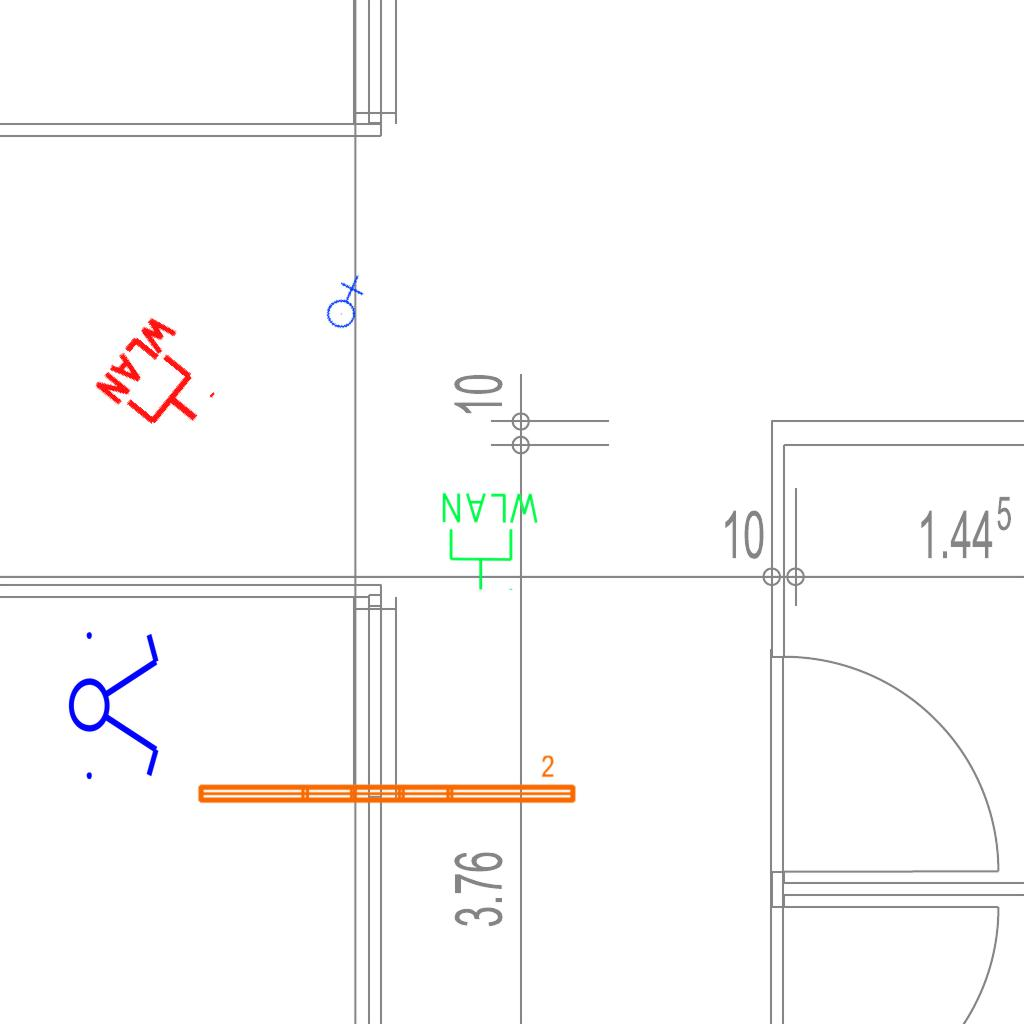Ambulanz_Pendelleuchte_LED: (193, 753, 580, 809)
Elektroanschluss_allgemein_230V_Geraeteanschlussdose_230V: (311, 272, 376, 335)
Serienschalter: (67, 620, 163, 788)
WLAN: (89, 307, 238, 455), (438, 489, 543, 593)
